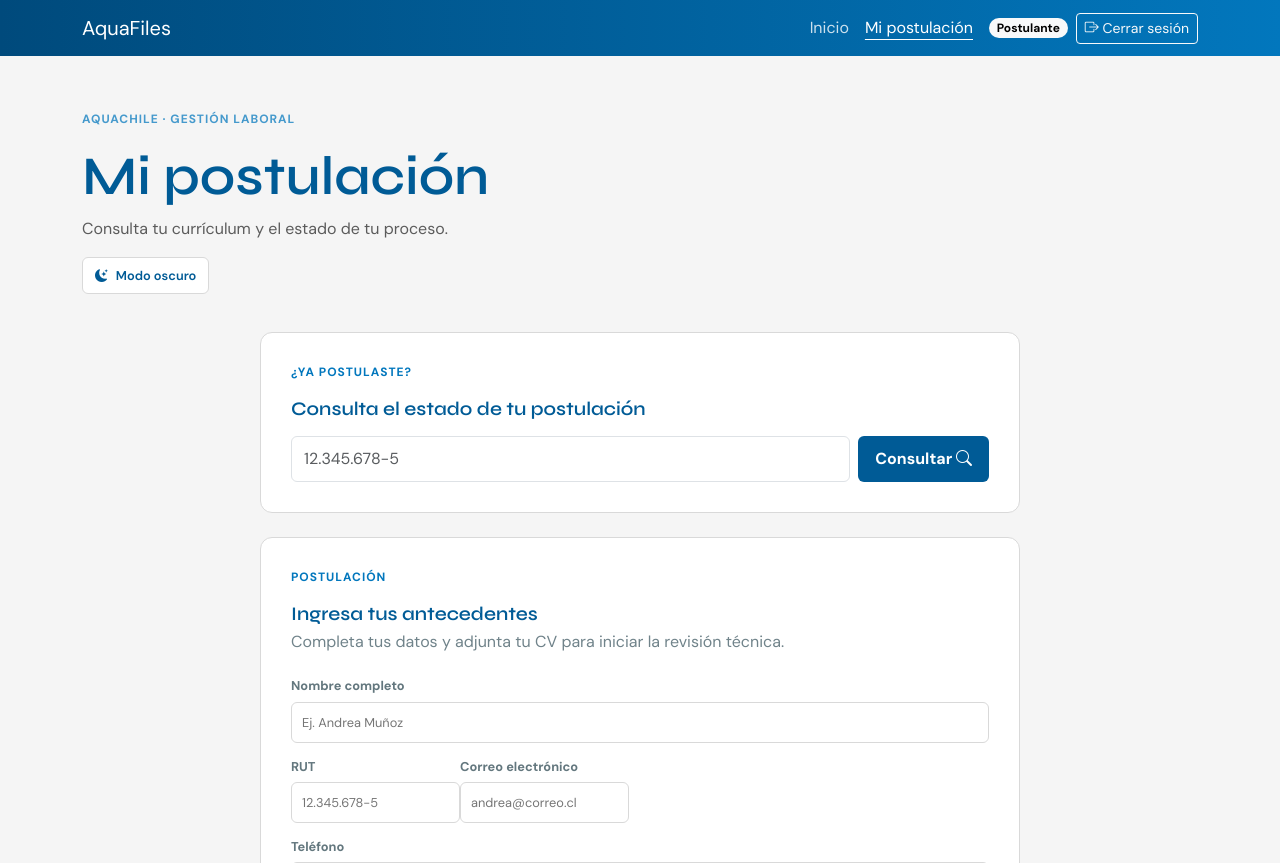
Test: Flujo del proceso › el postulante no ve las decisiones internas de RR. HH.
This screenshot has width=1280, height=863.
Valentina está "Aprobado técnicamente", pero ella solo debe ver "En revisión técnica".
In the field named "rut de tu postulación": (571, 459) [291,436,850,482], type "20.456.789-1"
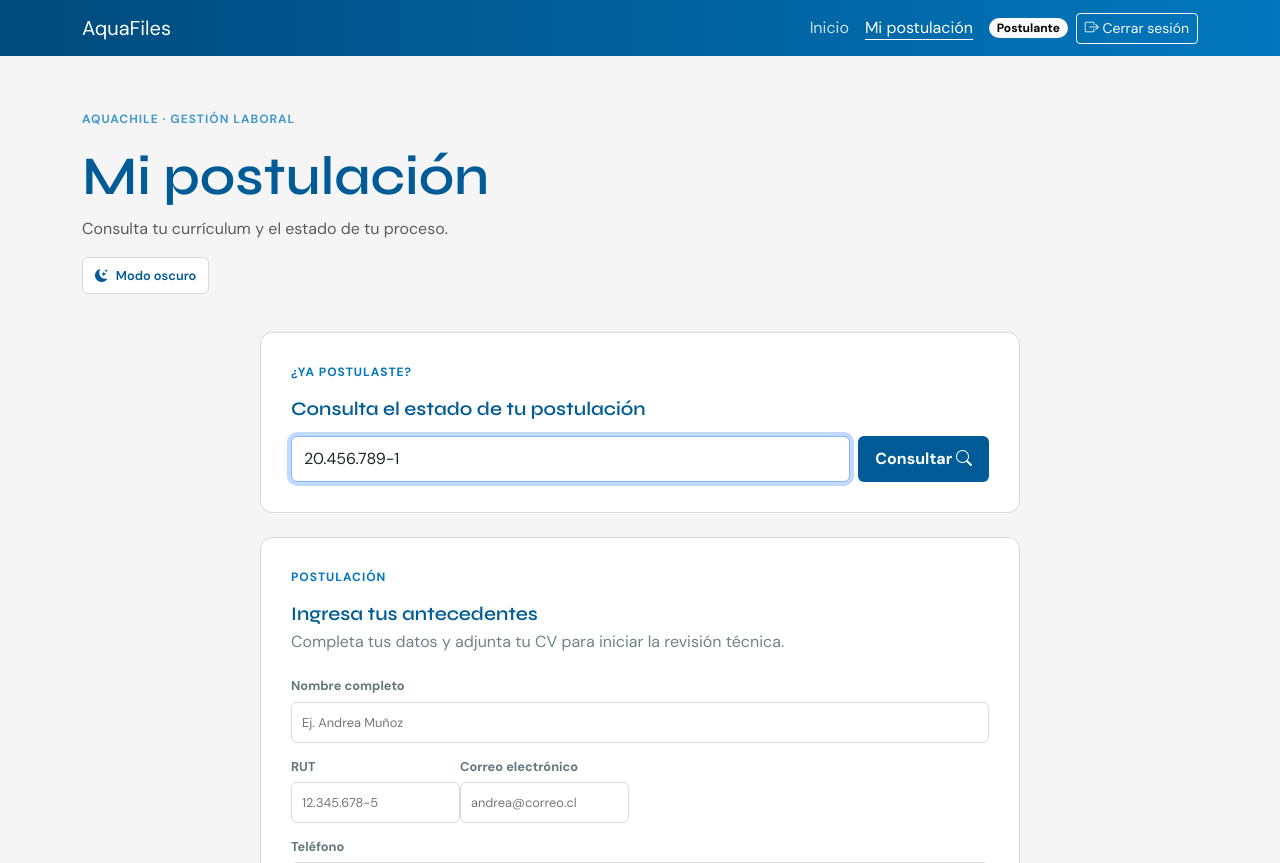
Click the button "Consultar": (924, 459) [858,436,989,482]
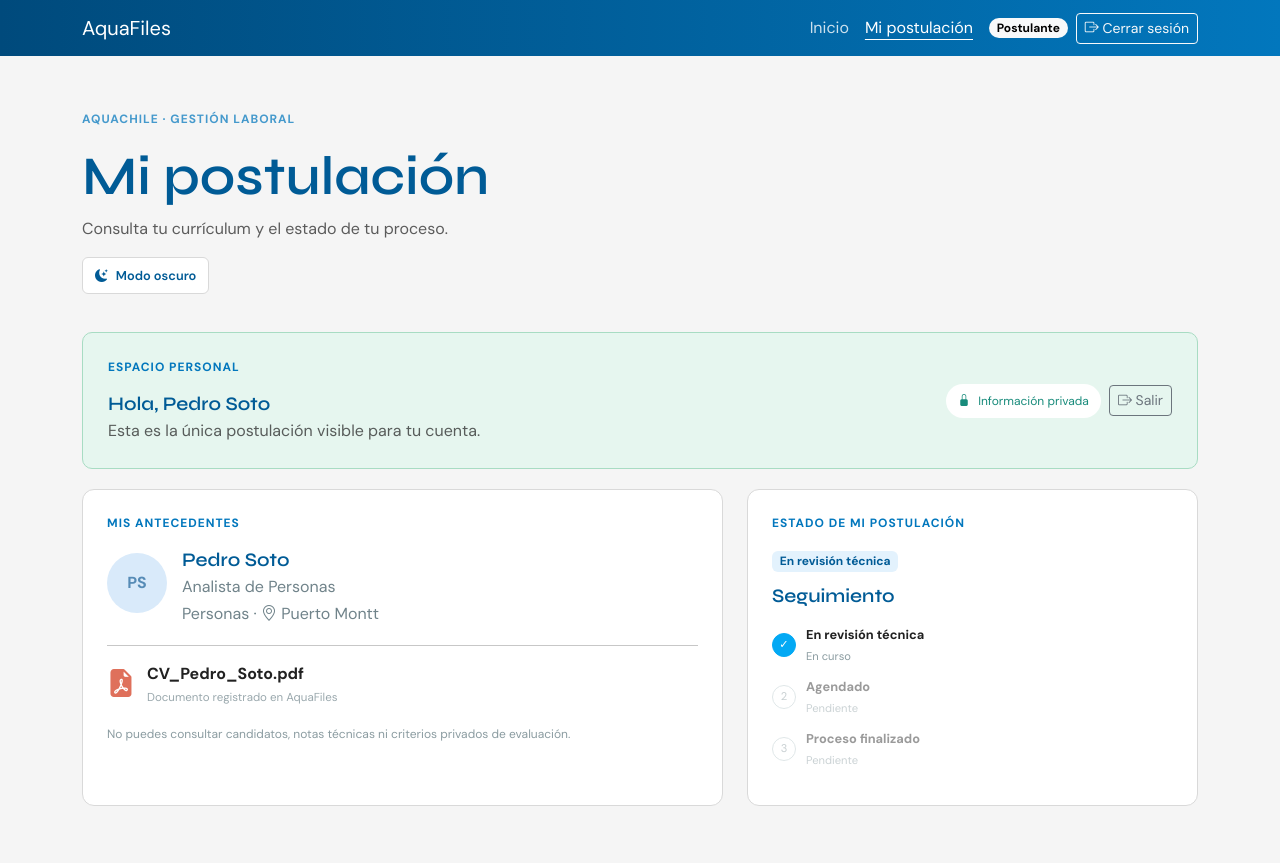
Result: the 1st text "En revisión técnica" is shown at [772,551,898,572]
